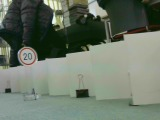speed_20: (17, 46, 39, 67)
